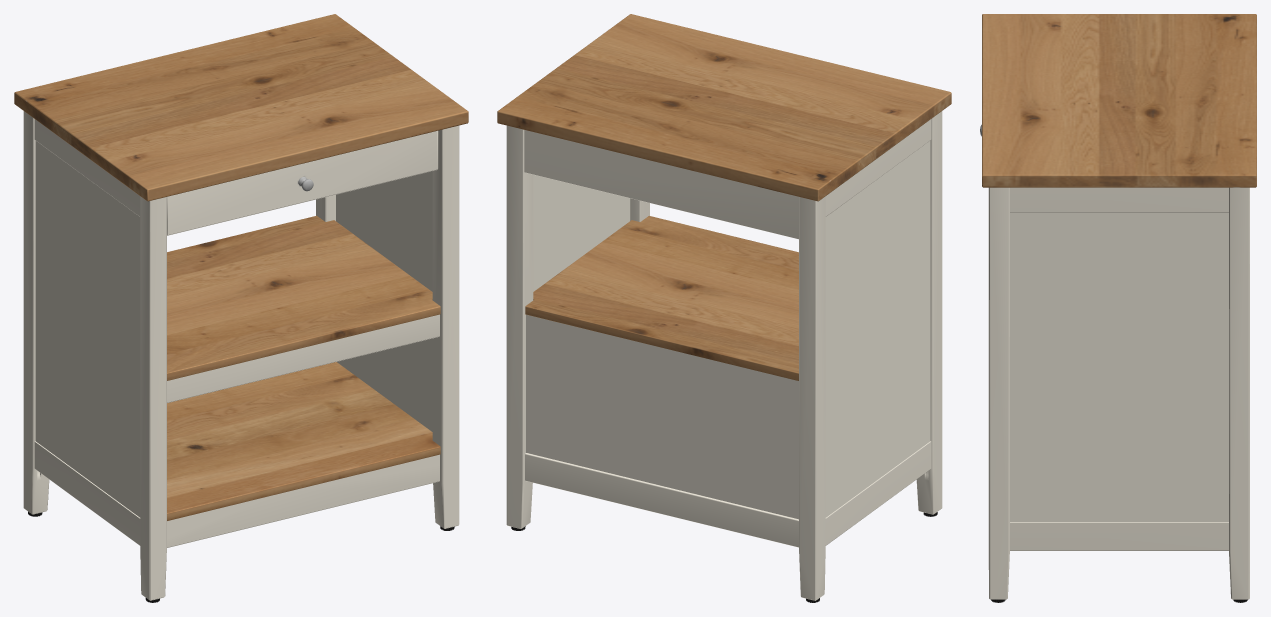
Rendered from 25 - TORNVIKEN Kitchen island - off-whiteoak 72x52 cm.glb.
The picture shows the model from 3 angles, left to right: view 1: azimuth 30°, elevation 25°; view 2: azimuth 150°, elevation 25°; view 3: azimuth 270°, elevation 25°; orthographic projection. The views are drawn at different scales.
Parts seen in each view (by area): view 1: 00393371-TORNVIKEN001; view 2: 00393371-TORNVIKEN001; view 3: 00393371-TORNVIKEN001.
Boxes of the visible parts, box(x1,y1,x2,y2) form: 00393371-TORNVIKEN001: box(14, 14, 468, 602); 00393371-TORNVIKEN001: box(497, 14, 951, 602); 00393371-TORNVIKEN001: box(980, 14, 1256, 602).
Bounding box in the file's own units: 0.723 × 0.9026 × 0.5236.
1 material, 1 textured.
